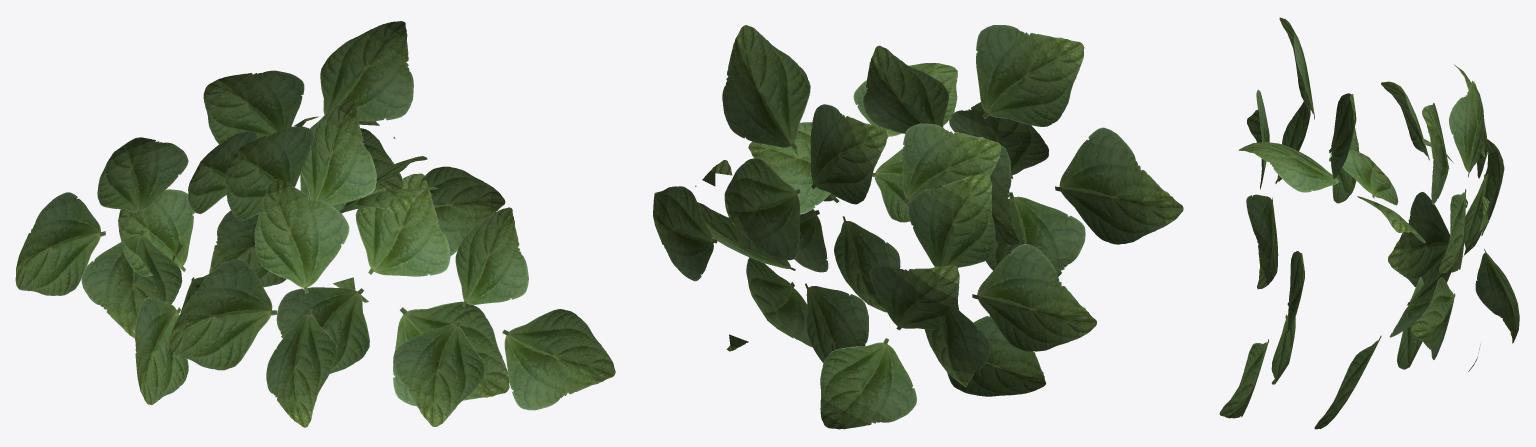
File: soybean_30d.obj
3 views of the same model, side by side, from view 1: azimuth 30°, elevation 25°; view 2: azimuth 150°, elevation 25°; view 3: azimuth 270°, elevation 25° (orthographic). The views are drawn at different scales.
Visible parts, largest first — view 1: leaf; view 2: leaf; view 3: leaf.
Boxes of the visible parts, x1=… form: leaf: x1=15, y1=21, x2=615, y2=427; leaf: x1=653, y1=25, x2=1183, y2=429; leaf: x1=1219, y1=17, x2=1519, y2=429.
Bounding box in the file's own units: 0.5384 × 0.3979 × 0.3399.
Materials: 1 (1 with a texture image).
